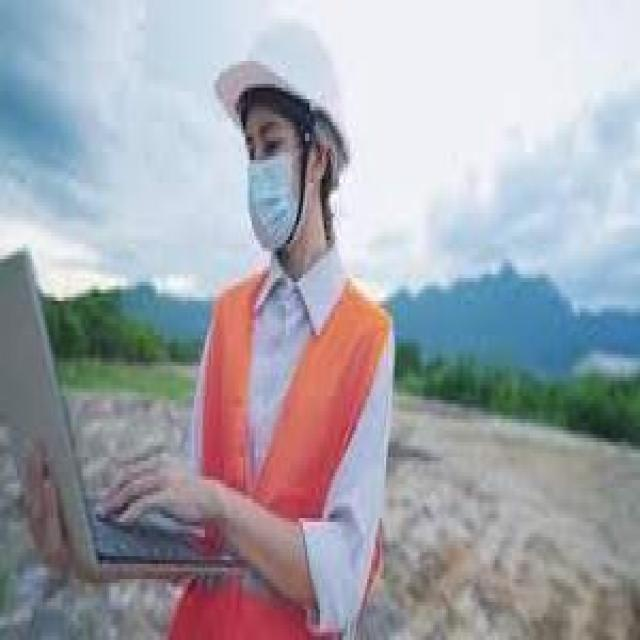Reflective-Jacket: (158, 255, 403, 636)
Safety-Helmet: (211, 8, 371, 182)
